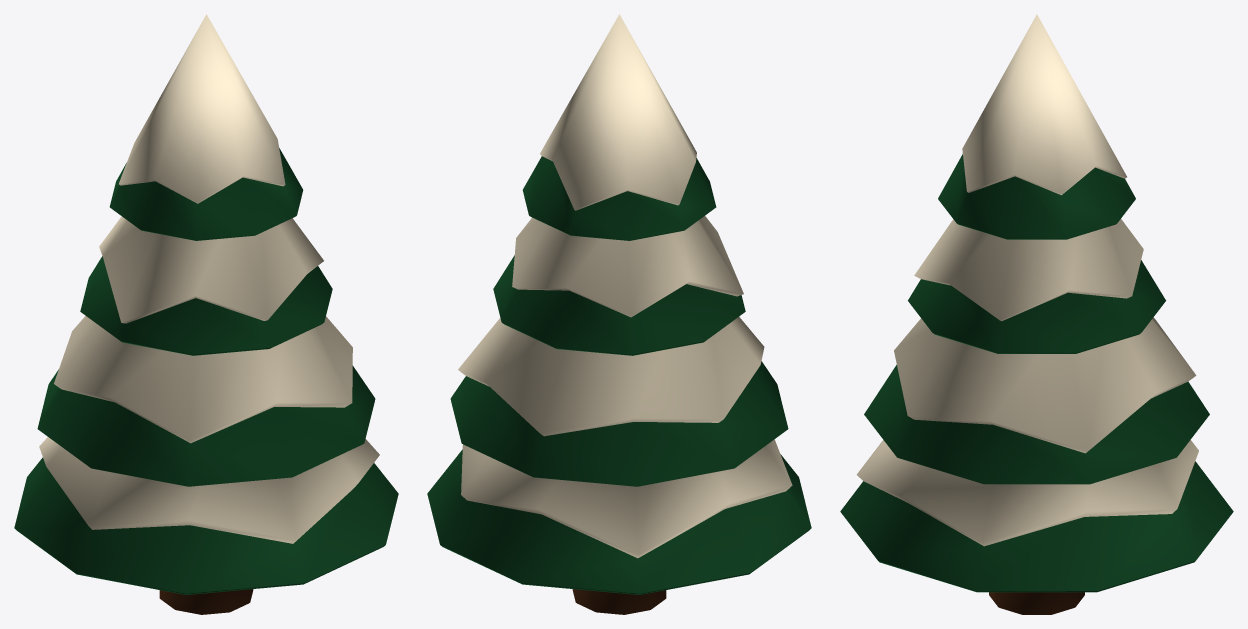
Rendered from winter-tree-pine-tall.glb.
3 views of the same model, side by side, from view 1: azimuth 30°, elevation 25°; view 2: azimuth 150°, elevation 25°; view 3: azimuth 270°, elevation 25° (orthographic).
Parts seen in each view (by area): view 1: WinterTreePineTall; view 2: WinterTreePineTall; view 3: WinterTreePineTall.
Boxes of the visible parts, x1,y1,x2,y2 form: WinterTreePineTall: (14,14,398,614); WinterTreePineTall: (427,14,811,614); WinterTreePineTall: (840,14,1233,614).
Bounding box in the file's own units: 177 × 303 × 186.
1 material, 1 textured.
